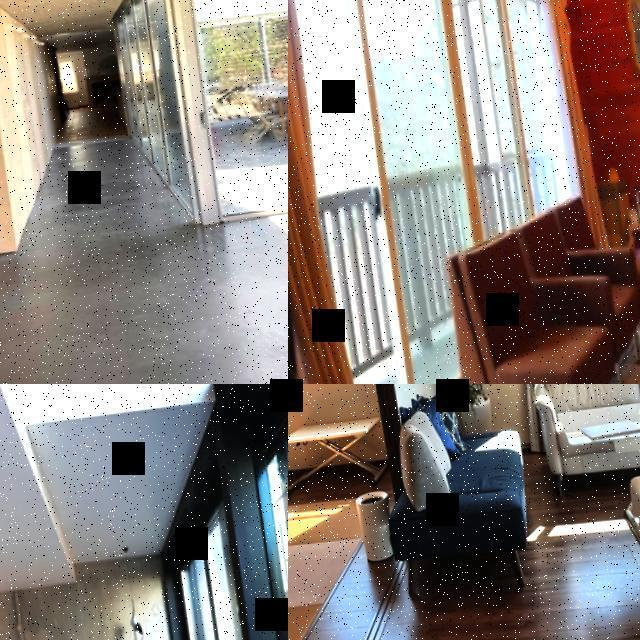couch: (530, 384, 640, 503)
